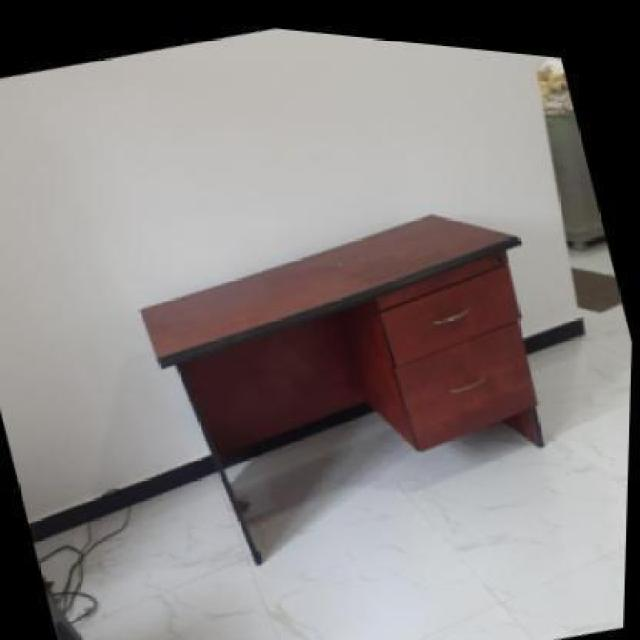tables: (137, 212, 545, 565)
